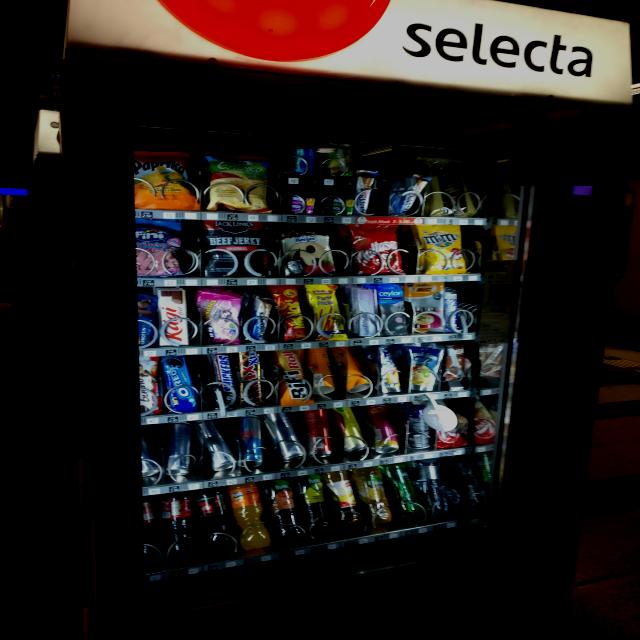airwaves_menthoneucalyptus_riegel_14_1_50173167: (286, 146, 316, 176)
bifi_roll__50__4251097402635: (274, 351, 308, 401)
bueno___43__4008400320328: (134, 356, 162, 416)
c-swiss_dosenabisicetea__33__9120025930135: (332, 346, 376, 394), (306, 348, 338, 396)
caferoyal_classicmacchiato__33__7617014164487: (406, 406, 436, 448)
caprisun_multivitamin__20__4000177605004: (409, 345, 444, 392), (378, 346, 406, 394)
coke__dose_33__54491472: (304, 406, 338, 456)
coke__flasche_50__54491472: (197, 487, 239, 555), (160, 491, 200, 558)
comella_schokodrink__33__7613100037253: (446, 342, 466, 383)
fanta___50__40822938: (227, 482, 271, 550)
fini_galaxymix_packung_100_1_8410525150364: (130, 216, 186, 276)
fini_jellykisses_packung_80_1_8410525116704: (204, 290, 240, 344)
fuse_lemon__50__5449000235947: (299, 472, 337, 534)
fuse_lemon_dose_33__5449000235947: (338, 407, 370, 452)
fuse_peach__50__5449000236623: (264, 479, 308, 542)
jacklinks_beefjerkyorginal__25__4047751730219: (203, 217, 273, 281)
jlbrichard_gauffre__90__5410495002000: (426, 158, 475, 216)
kagi___50__7610046000259: (155, 284, 192, 348)
knoppers_riegel____4035800488808: (396, 173, 432, 210), (248, 298, 276, 341), (354, 168, 376, 213)
lorenz_nicnacs__40__4018077798818: (274, 284, 308, 340)
malburner_partysticks__40__7610200279682: (307, 285, 349, 342)
maltesers___100__5000159023061: (350, 222, 404, 276)
mnms_gelb__45__40111445: (416, 225, 466, 274)
oreo___66__84100733: (163, 356, 200, 412)
powerbar_proteinplusschoko__55__4029679520028: (132, 291, 158, 348)
ramseier_schorle__50__7610057012456: (322, 470, 364, 527)
redbull___33__90162909: (195, 419, 241, 472), (267, 411, 307, 461), (164, 423, 194, 476), (237, 416, 267, 466)
skittles_sour_riegel_51_1_0000000000004: (328, 148, 356, 172)
snickers___50__5000159461122: (211, 352, 237, 405)
stimorol_spearmint_riegel_14_1_0000000000005: (320, 196, 354, 216)
stimorol_wildcherry_riegel_14_1_57060330: (278, 192, 314, 212)
tiki_himbeer_brause__50__00000000009342: (369, 407, 402, 450)
twix___50__5000159459228: (237, 349, 266, 406)
valser_classic__50__76404160: (381, 463, 422, 514)
valser_still__50__7610335002575: (412, 459, 450, 511)
volvic_pinapple__50__305764335648: (350, 468, 393, 526)
zweifel_graneochilli__100__7610095184009: (205, 147, 275, 209)
zweifel_paprika__90__7610095013002: (131, 146, 198, 209)
